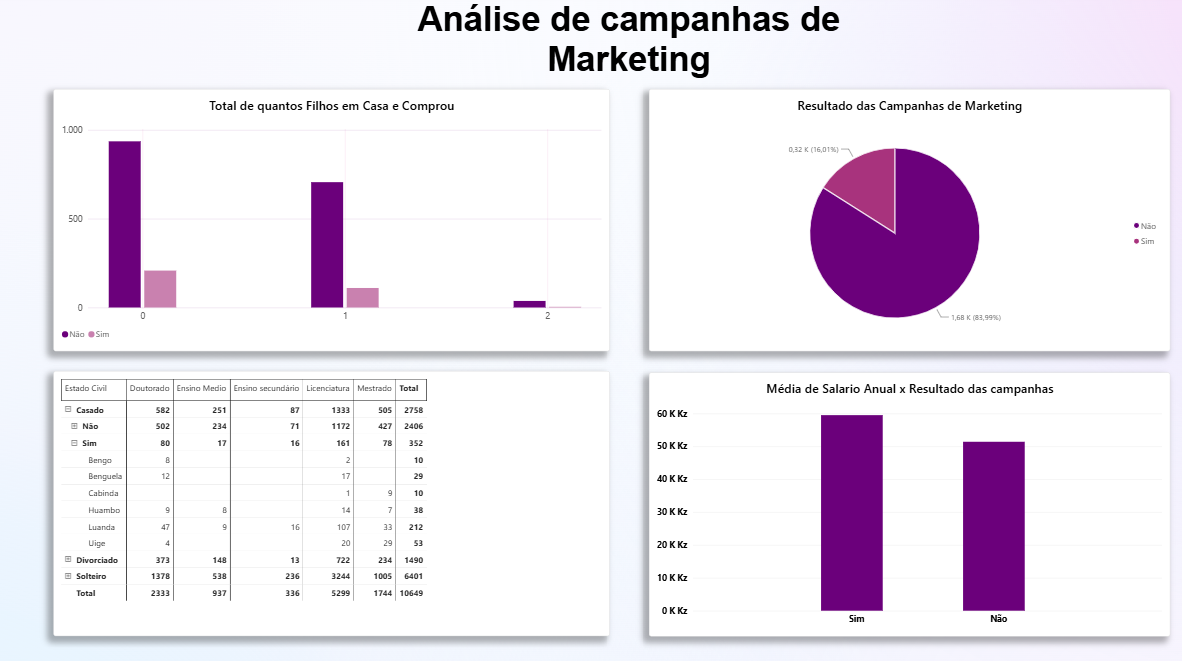

Layout of this report page (visuals, bound fields, positions):
{"tool":"powerbi","page":{"name":"Visão campanhas","canvas":[1920,1080],"ordinal":2},"visuals":[{"type":"pieChart","title":"Resultado das Campanhas de Marketing","fields":{"Category":["DadosMarketing.Comprou"],"Y":["CountNonNull(DadosMarketing.ID)"]},"box":[1054.8,146.6,843.8,424.5],"z":0},{"type":"clusteredColumnChart","title":"Média de Salario Anual x Resultado das campanhas","fields":{"Category":["DadosMarketing.Comprou"],"Y":["Avg(DadosMarketing.Salario Anual)"]},"box":[1054.8,604.6,843.8,427.1],"z":1},{"type":"pivotTable","fields":{"Columns":["DadosMarketing.Escolaridade"],"Rows":["DadosMarketing.Estado Civil","DadosMarketing.Comprou","DadosMarketing.Provincia"],"Values":["Sum(DadosMarketing.Numero Visitas WebSite Mes)"]},"box":[90,602,900.4,429.6],"z":2},{"type":"clusteredColumnChart","title":"Total de quantos Filhos em Casa e Comprou","fields":{"Category":["DadosMarketing.Filhos em Casa"],"Series":["DadosMarketing.Comprou"],"Y":["CountNonNull(DadosMarketing.Filhos em Casa)"]},"box":[90,146.6,900.4,424.5],"z":3},{"type":"textbox","box":[540.2,0,964.7,146.6],"z":4}]}

Visuals, with their boxes in screenshot pixels (x1, y1, x2, y2), scaled from the page's 1920x1080 canvas onto the 1182x661 screenshot:
"Resultado das Campanhas de Marketing" pieChart: bbox(649, 90, 1169, 350)
"Média de Salario Anual x Resultado das campanhas" clusteredColumnChart: bbox(649, 370, 1169, 631)
pivotTable - DadosMarketing.Escolaridade x DadosMarketing.Estado Civil: bbox(55, 368, 610, 631)
"Total de quantos Filhos em Casa e Comprou" clusteredColumnChart: bbox(55, 90, 610, 350)
textbox: bbox(333, 0, 926, 90)
